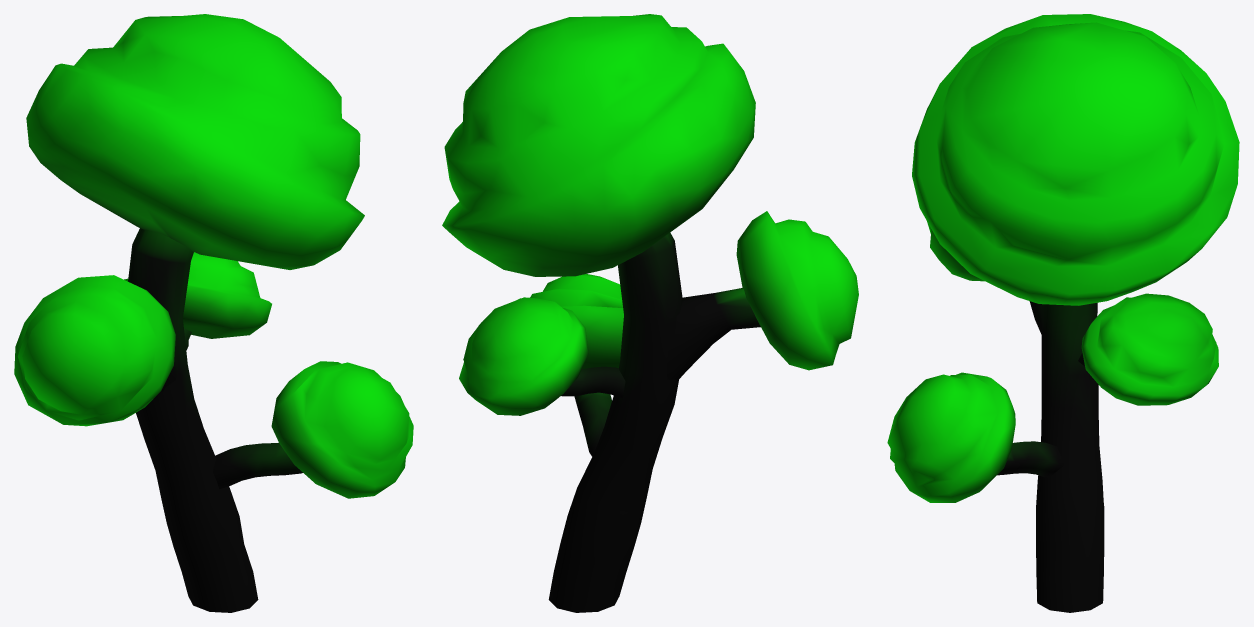
The model's file is Tree.FBX.
3 renders of one model, left to right at view 1: azimuth 30°, elevation 25°; view 2: azimuth 150°, elevation 25°; view 3: azimuth 270°, elevation 25°, orthographic. The views are drawn at different scales.
Parts seen in each view (by area): view 1: tree_low; view 2: tree_low; view 3: tree_low.
Boxes of the visible parts, <box> form: tree_low: <box>14,14,413,612</box>; tree_low: <box>442,14,858,612</box>; tree_low: <box>887,14,1239,612</box>.
Size of the model in its own units: 339 by 520 by 304.
